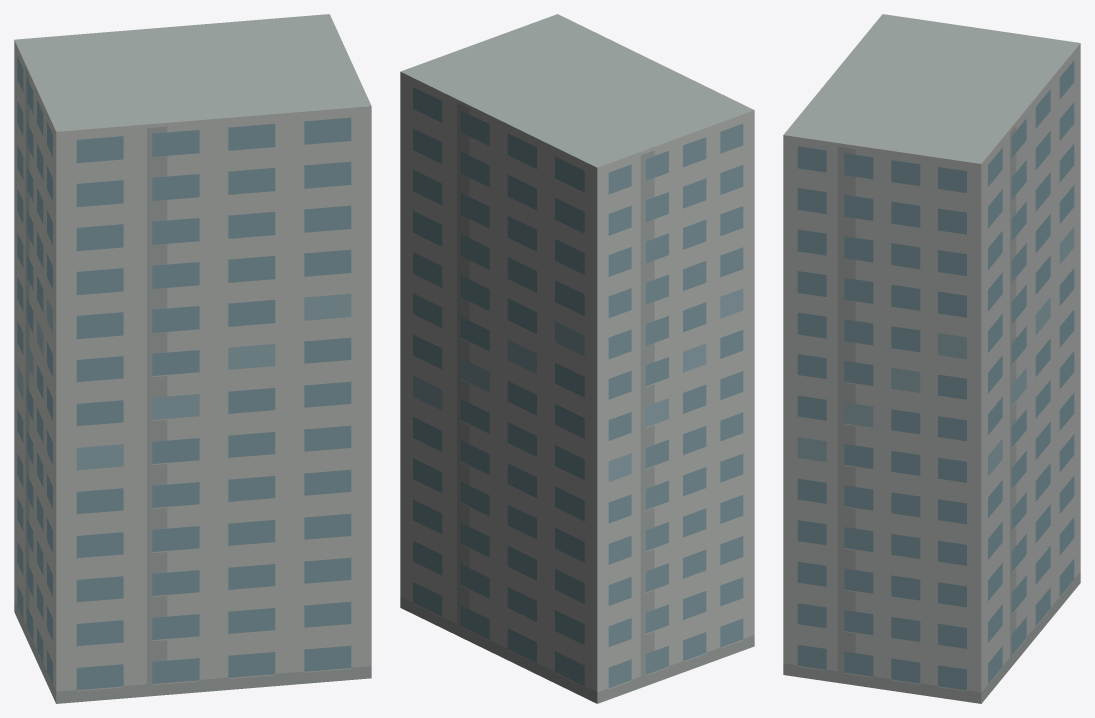
File: residential-042b404a-616f-4efe-949d-64fff6ad1b04.glb
3 views of the same model, side by side, from view 1: azimuth 30°, elevation 25°; view 2: azimuth 150°, elevation 25°; view 3: azimuth 270°, elevation 25° (orthographic). The views are drawn at different scales.
Visible parts, largest first — view 1: residential-042b404a-616f-4efe-949d-64fff6ad1b04.tmp; view 2: residential-042b404a-616f-4efe-949d-64fff6ad1b04.tmp; view 3: residential-042b404a-616f-4efe-949d-64fff6ad1b04.tmp.
Boxes of the visible parts, x1,y1,x2,y2 form: residential-042b404a-616f-4efe-949d-64fff6ad1b04.tmp: [14, 14, 371, 703]; residential-042b404a-616f-4efe-949d-64fff6ad1b04.tmp: [400, 14, 754, 703]; residential-042b404a-616f-4efe-949d-64fff6ad1b04.tmp: [783, 14, 1080, 703].
Bounding box in the file's own units: 22.06 × 37 × 18.48.
